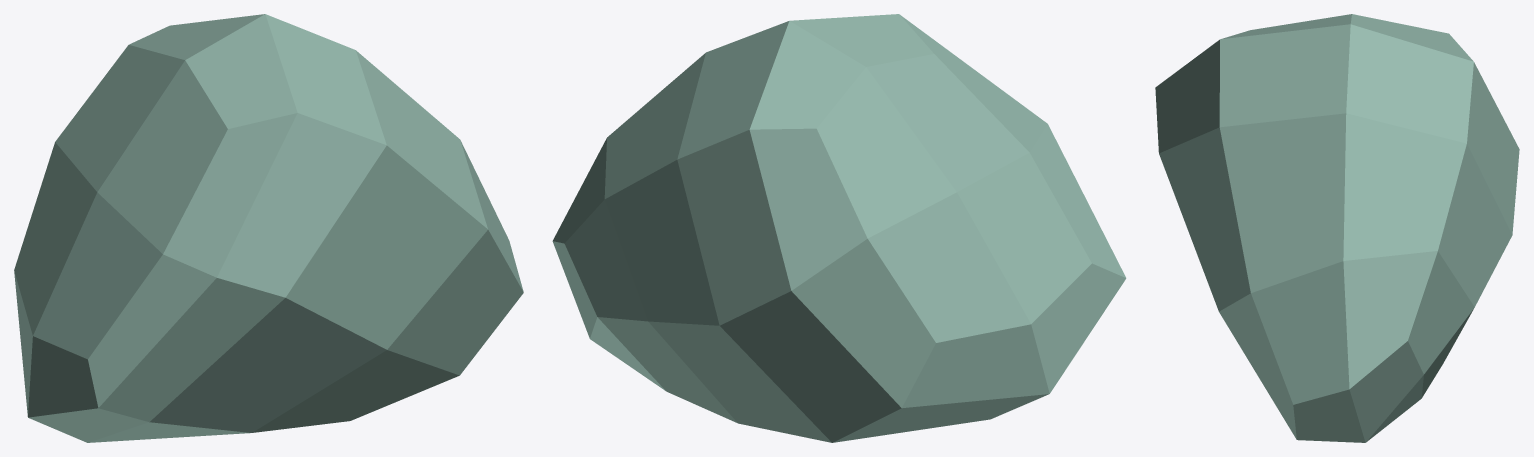
The model's file is res_stone.fbx.
3 renders of one model, left to right at view 1: azimuth 30°, elevation 25°; view 2: azimuth 150°, elevation 25°; view 3: azimuth 270°, elevation 25°, orthographic. The views are drawn at different scales.
Parts seen in each view (by area): view 1: Cube; view 2: Cube; view 3: Cube.
Boxes of the visible parts, box(x1,y1,x2,y2) form: Cube: box(14, 14, 523, 442); Cube: box(552, 14, 1126, 442); Cube: box(1155, 14, 1519, 442).
Bounding box in the file's own units: 80.55 × 62.61 × 56.31.
